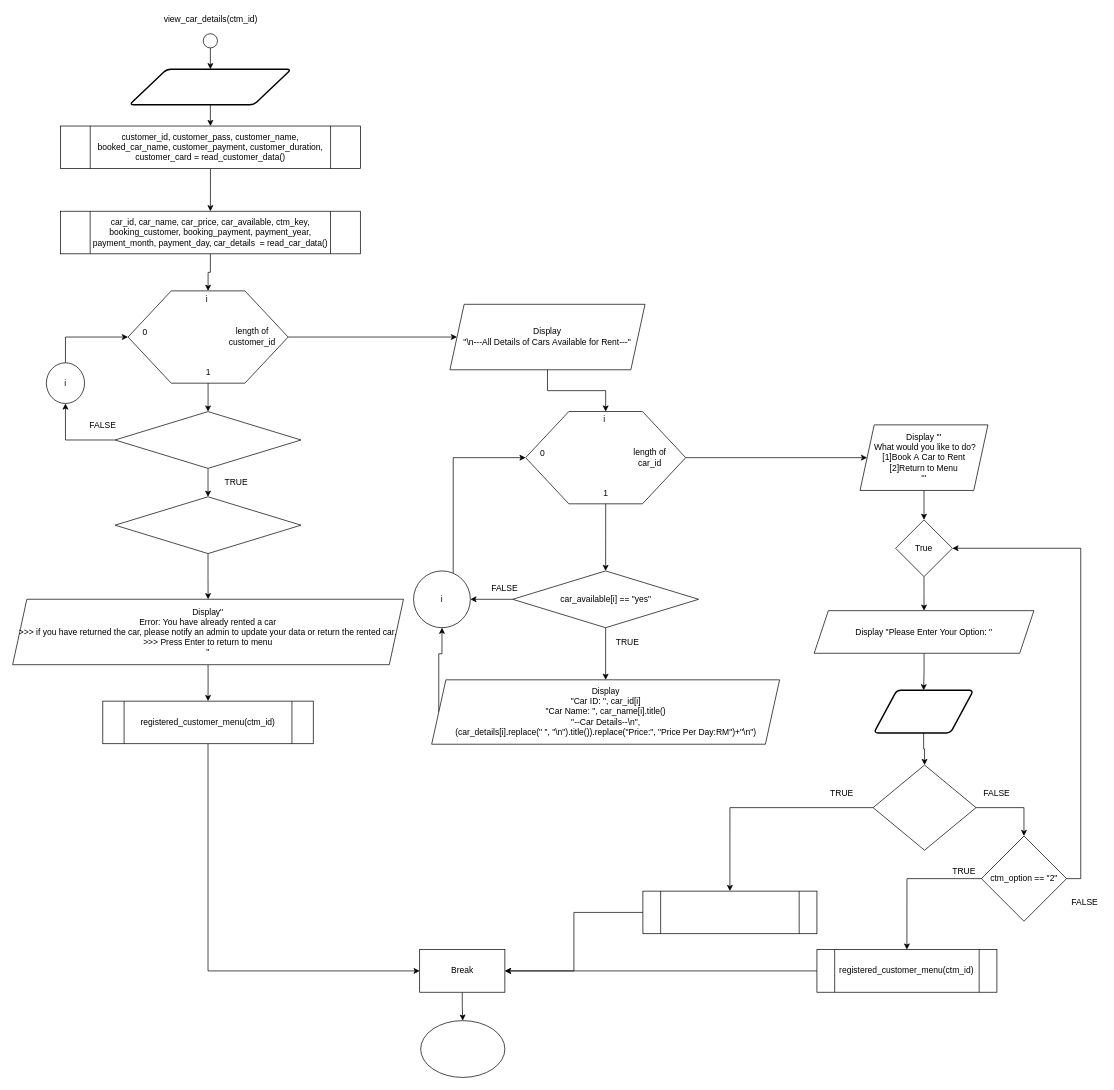
This 1114x1090 diagram has some shape labels left out. The shapes that lost their labels are listed below. From the top down, each one's box as (x1, y1, x2, y2) in pixels, then its label:
(128, 68, 292, 105): Read ctm_id
(114, 411, 301, 468): customer_id[i] == ctm_id
(114, 496, 301, 554): booked_car_name[i] != "none"
(873, 689, 974, 733): Read ctm_option
(872, 764, 976, 850): ctm_option == "1"
(642, 890, 817, 934): book_car(ctm_id)
(420, 1020, 505, 1077): End
